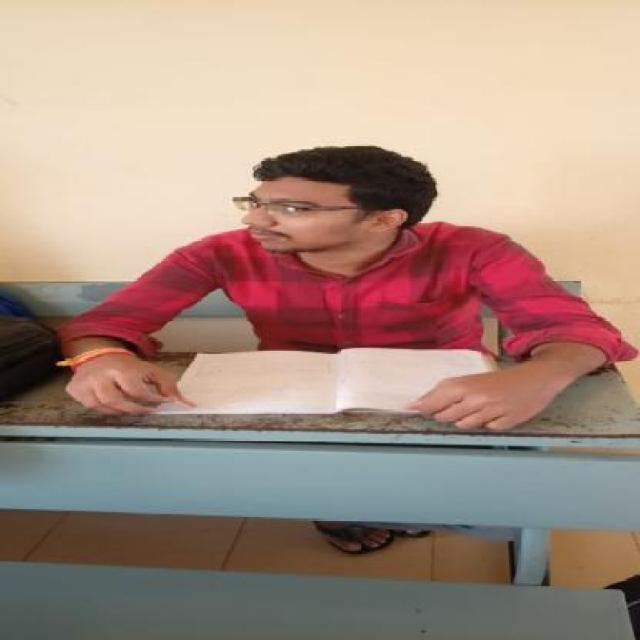cheating: (40, 116, 640, 431)
